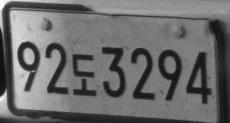2: (130, 46, 156, 100), (44, 41, 69, 94)
3: (101, 46, 126, 98)
4: (185, 51, 213, 105)
9: (16, 40, 41, 92), (157, 48, 182, 100)
도: (71, 52, 97, 96)
